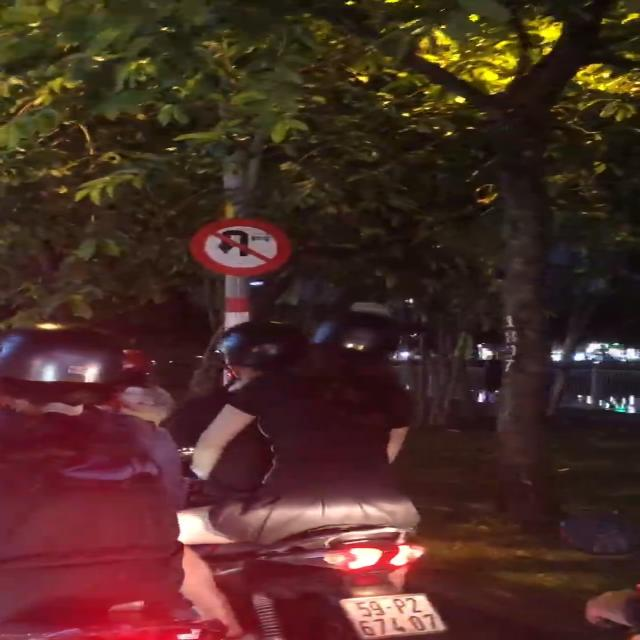Bien bao cam quay dau xe: (187, 220, 288, 273)
